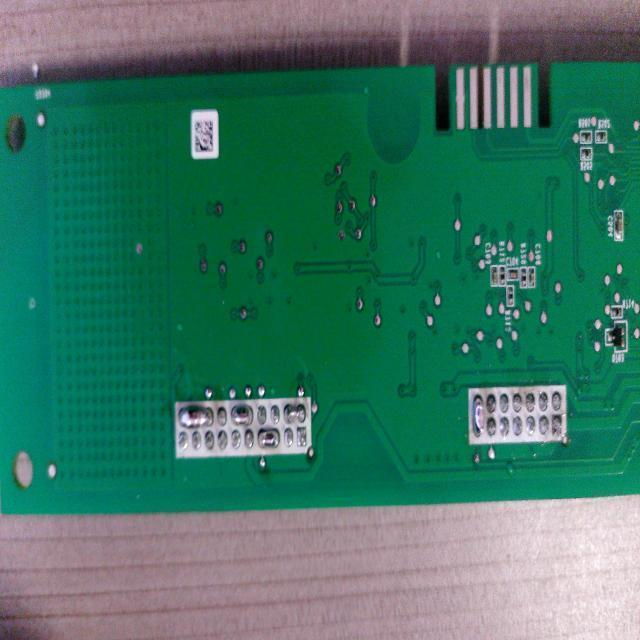Soldering bridge: (177, 402, 214, 432), (471, 390, 486, 439), (283, 401, 308, 426), (258, 428, 282, 452), (230, 404, 253, 426)
